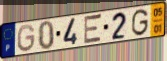0: (35, 20, 56, 52)
2: (110, 10, 128, 42)
4: (62, 16, 80, 48)
E: (83, 13, 103, 46)
G: (17, 23, 37, 53), (131, 8, 150, 37)
